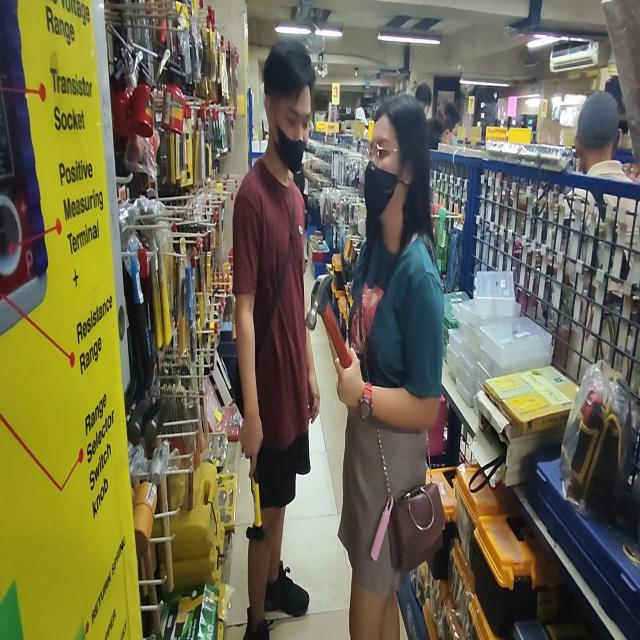hammer: (306, 274, 352, 368), (246, 466, 265, 540)
